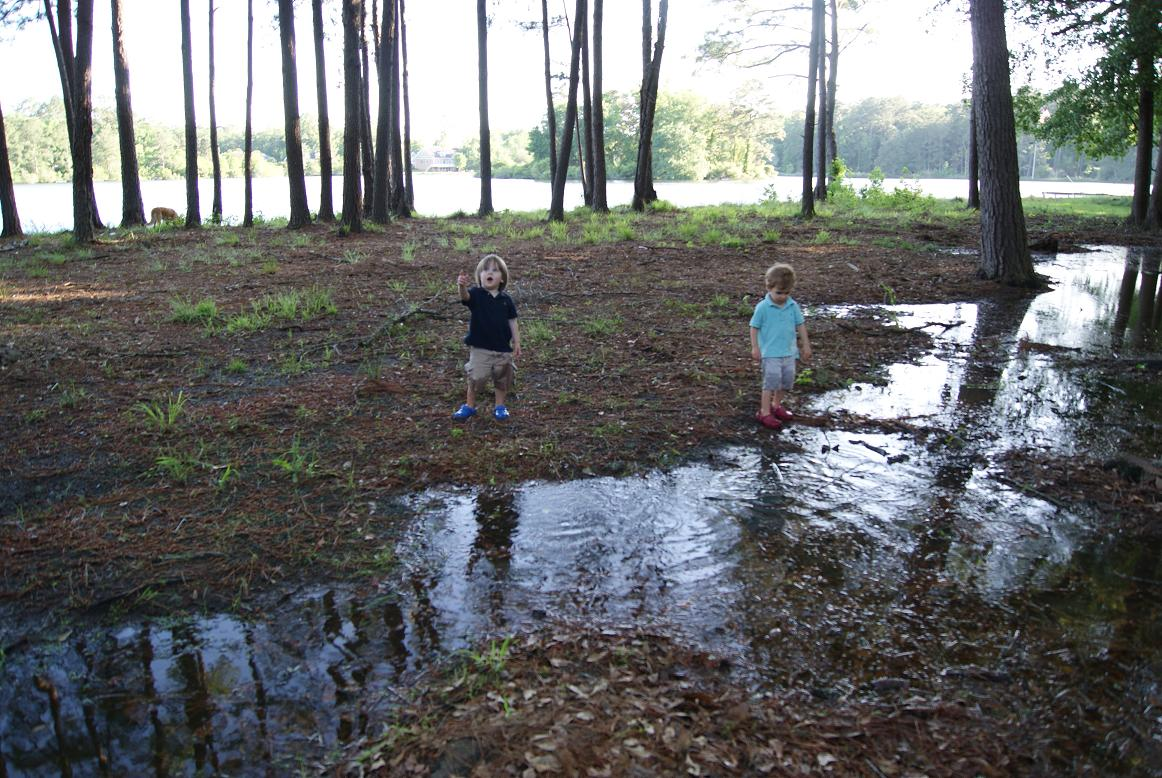leaves: (415, 650, 782, 778)
person: (449, 242, 528, 430), (743, 255, 808, 438)
tree: (950, 1, 1035, 290), (1076, 1, 1162, 220), (102, 1, 150, 235), (51, 1, 99, 235), (167, 1, 203, 235)
water: (15, 632, 365, 770), (710, 453, 1083, 578), (414, 491, 732, 629), (282, 592, 475, 673), (901, 305, 1162, 360), (851, 368, 1076, 420), (941, 410, 1094, 453), (1049, 249, 1158, 309)
